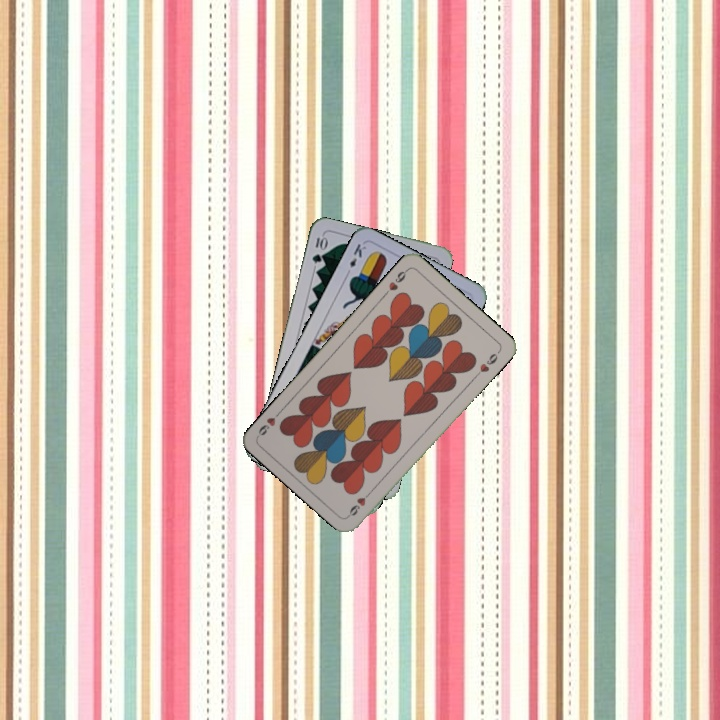EK: (342, 240, 369, 278)
G10: (308, 232, 329, 266)
H9: (380, 265, 411, 298), (344, 486, 375, 519)
